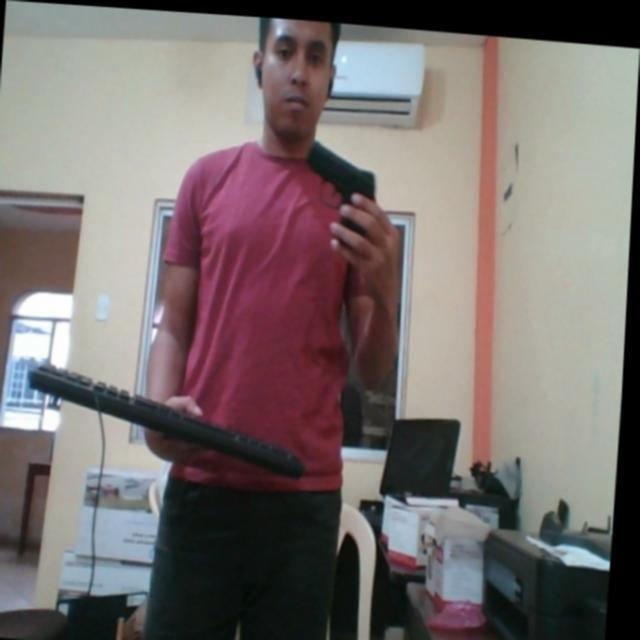weapon: (299, 131, 386, 249)
